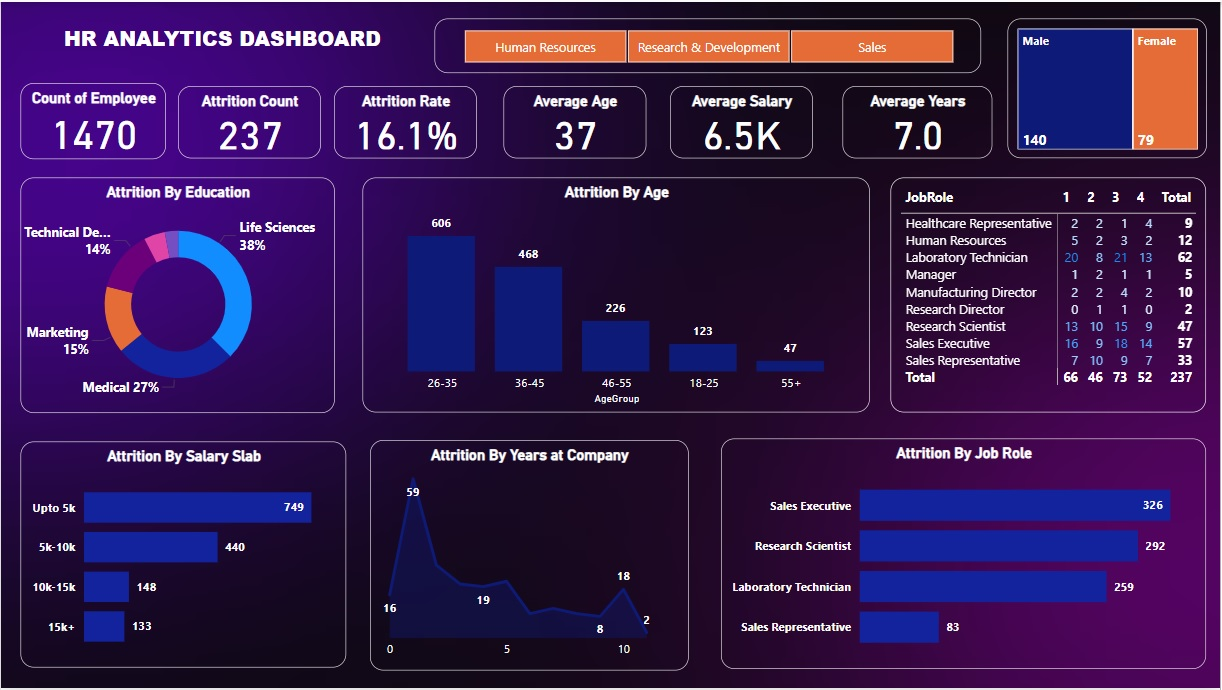

What the dashboard file says about the page in this screenshot:
{"tool":"powerbi","page":{"name":"Page 1","canvas":[1280,720],"ordinal":0},"visuals":[{"type":"card","title":"Count of Employee","fields":{"Values":["Sum(HR_Analytics.EmployeeCount)"]},"box":[20,84.3,152.9,80],"z":0},{"type":"card","title":"Attrition Count","fields":{"Values":["Sum(HR_Analytics.AttritionCount)"]},"box":[185.7,88.6,150,75.7],"z":1000},{"type":"card","title":"Attrition Rate","fields":{"Values":["HR_Analytics.Attrition Rate"]},"box":[350,88.6,150,75.7],"z":2000},{"type":"card","title":"Average Age","fields":{"Values":["Avg(HR_Analytics.Age)"]},"box":[527.1,88.6,150,75.7],"z":3000},{"type":"card","title":"Average Salary","fields":{"Values":["Avg(HR_Analytics.MonthlyIncome)"]},"box":[702.9,88.6,150,75.7],"z":4000},{"type":"card","title":"Average Years ","fields":{"Values":["Avg(HR_Analytics.YearsAtCompany)"]},"box":[882.9,88.6,157.1,75.7],"z":5000},{"type":"donutChart","title":"Attrition By Education","fields":{"Category":["HR_Analytics.EducationField"],"Y":["Sum(HR_Analytics.AttritionCount)"]},"box":[20,184.3,330,247.1],"z":6000},{"type":"columnChart","title":"Attrition By Age","fields":{"Category":["HR_Analytics.AgeGroup"],"Y":["CountNonNull(HR_Analytics.Attrition)"]},"box":[379.8,184.4,533,247],"z":7000},{"type":"pivotTable","fields":{"Rows":["HR_Analytics.JobRole"],"Columns":["HR_Analytics.JobSatisfaction"],"Values":["Sum(HR_Analytics.AttritionCount)"]},"box":[934.7,184.4,331.4,247],"z":8000},{"type":"barChart","title":"Attrition By Salary Slab","fields":{"Category":["HR_Analytics.SalarySlab"],"Y":["CountNonNull(HR_Analytics.Attrition)"]},"box":[20.3,461.1,342.3,237.6],"z":9000},{"type":"barChart","title":"Attrition By Job Role","fields":{"Y":["CountNonNull(HR_Analytics.Attrition)"],"Category":["HR_Analytics.JobRole"]},"box":[756.5,458,509.5,242.3],"z":10000},{"type":"areaChart","title":"Attrition By Years at Company","fields":{"Category":["HR_Analytics.YearsAtCompany"],"Y":["Sum(HR_Analytics.AttritionCount)"]},"box":[387.6,459.5,334.5,242.3],"z":11000},{"type":"treemap","title":"Attrition By Years at Company","fields":{"Group":["HR_Analytics.Gender"],"Values":["Sum(HR_Analytics.AttritionCount)"]},"box":[1056.6,17.2,209.4,146.9],"z":12000},{"type":"slicer","fields":{"Values":["HR_Analytics.Department"]},"box":[455.7,17.1,574.3,57.1],"z":13000},{"type":"textbox","box":[20,17.1,424.3,57.1],"z":14000}]}

Visuals, with their boxes in screenshot pixels (x1, y1, x2, y2), scaled from the page's 1280x720 canvas onto the 1222x690 screenshot:
"Count of Employee" card: 19/81/165/157
"Attrition Count" card: 177/85/320/157
"Attrition Rate" card: 334/85/477/157
"Average Age" card: 503/85/646/157
"Average Salary" card: 671/85/814/157
"Average Years " card: 843/85/993/157
"Attrition By Education" donutChart: 19/177/334/413
"Attrition By Age" columnChart: 363/177/871/413
pivotTable - HR_Analytics.JobRole x HR_Analytics.JobSatisfaction: 892/177/1209/413
"Attrition By Salary Slab" barChart: 19/442/346/670
"Attrition By Job Role" barChart: 722/439/1209/671
"Attrition By Years at Company" areaChart: 370/440/689/673
"Attrition By Years at Company" treemap: 1009/16/1209/157
slicer - HR_Analytics.Department: 435/16/983/71
textbox: 19/16/424/71
